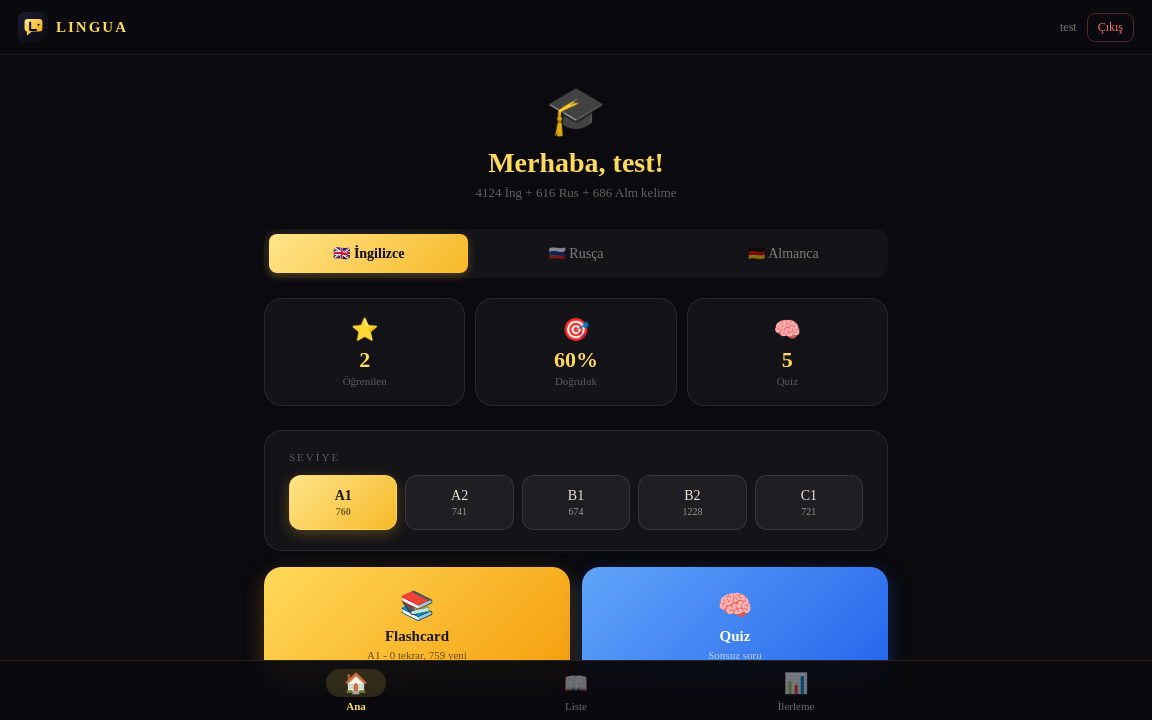
puan butonlarında sonraki tekrar süresi görünür
Click the button "📚 Flashcard A1 - 0 tekrar, 759 yeni": {"x": 417, "y": 625} [264, 567, 570, 683]
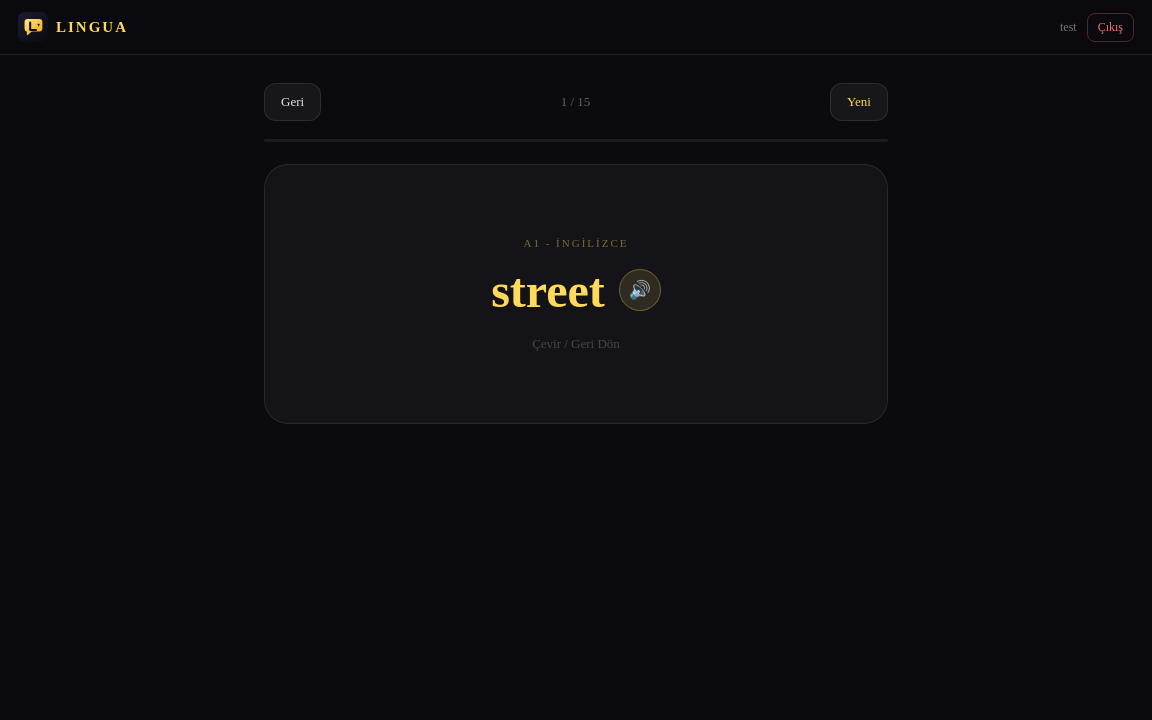
Click the element showing "A1 - İngilizce street 🔊 Çevir / Geri Dön": {"x": 576, "y": 294} [264, 164, 888, 424]
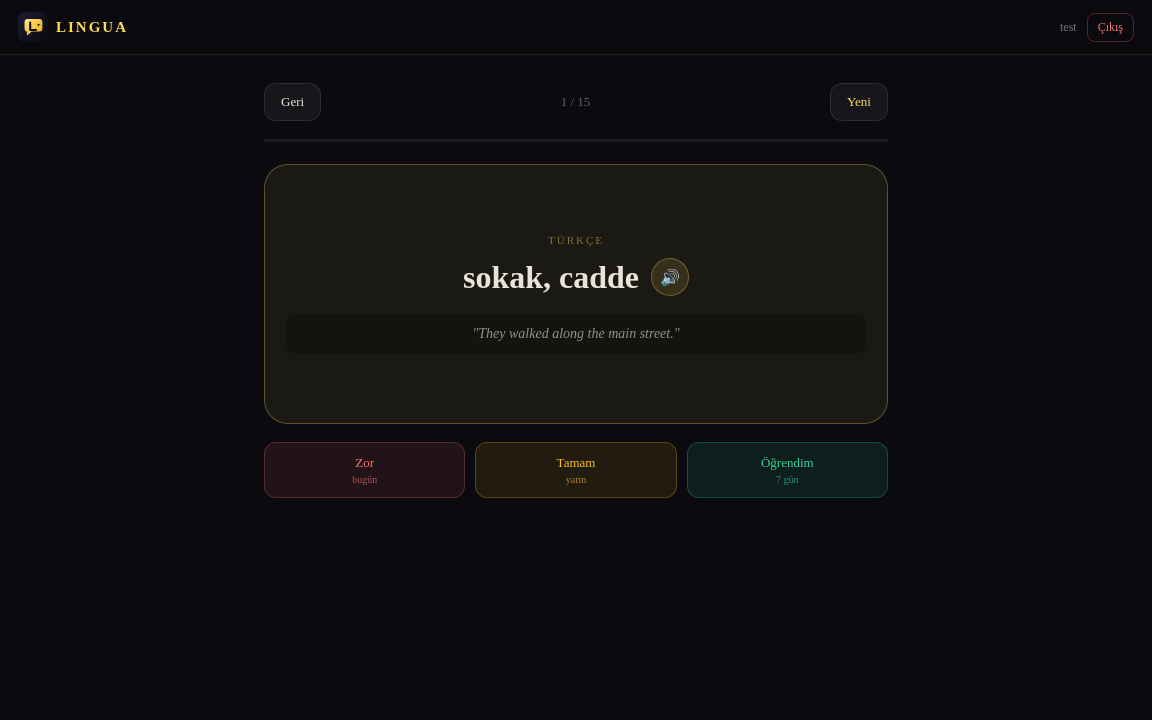
Now the button "Öğrendim 7 gün" is shown, box [687, 442, 888, 498]
Now the button "Tamam yarın" is shown, box [475, 442, 677, 498]
